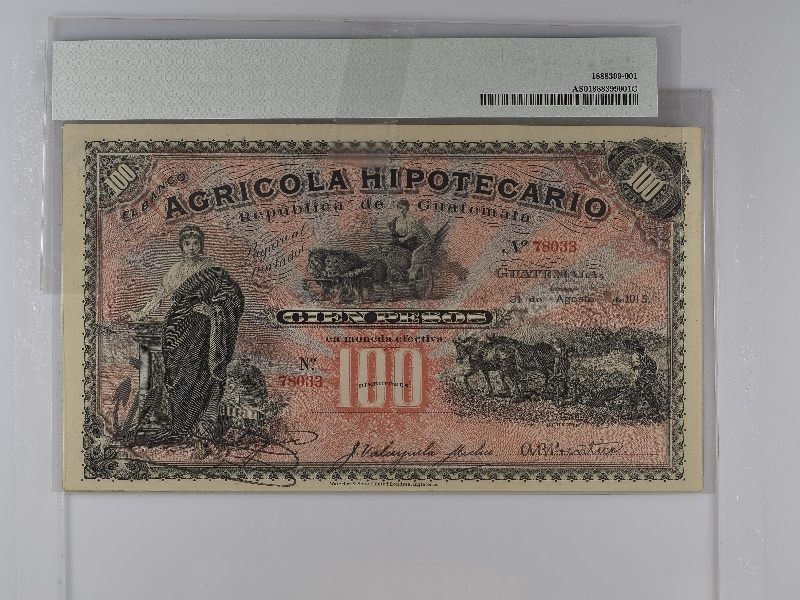papernote: (61, 121, 706, 495)
